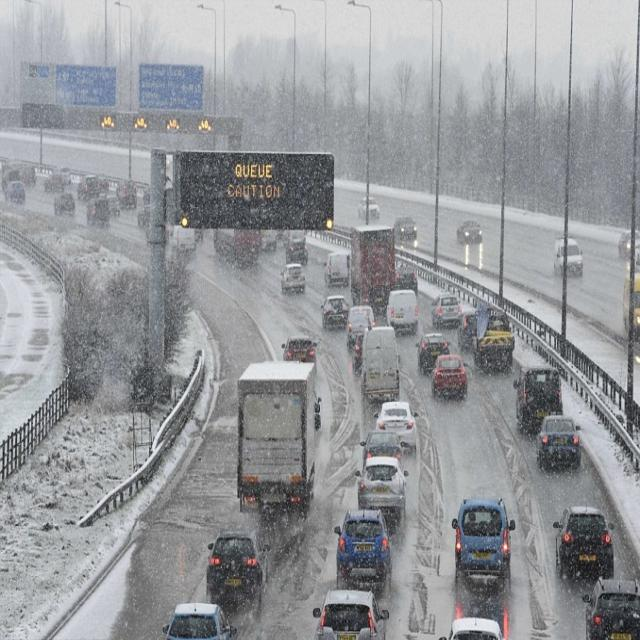bus: (237, 358, 319, 518), (350, 229, 396, 303), (214, 222, 258, 268)
car: (454, 497, 512, 584), (206, 530, 268, 607), (556, 508, 614, 584), (333, 512, 391, 584), (515, 362, 563, 433), (356, 464, 406, 526), (318, 589, 377, 639), (162, 599, 234, 638), (364, 328, 399, 403), (536, 414, 580, 473), (431, 354, 468, 402), (376, 402, 416, 444), (281, 333, 319, 368), (446, 617, 506, 639), (388, 294, 418, 338), (552, 239, 583, 274), (346, 308, 374, 344), (417, 336, 447, 367), (456, 217, 484, 249), (168, 228, 196, 260), (320, 295, 347, 326), (280, 263, 306, 295), (434, 294, 460, 323), (325, 253, 349, 283), (458, 312, 476, 346), (86, 198, 108, 224), (394, 216, 416, 241), (115, 189, 139, 211), (75, 176, 98, 198), (357, 196, 379, 217), (105, 194, 122, 220), (55, 197, 73, 220), (4, 182, 22, 205), (46, 174, 65, 194), (352, 333, 362, 368), (116, 180, 138, 192)
